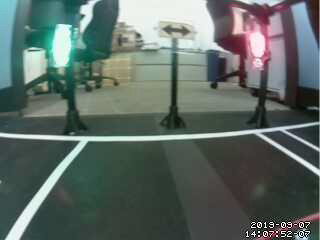Left_Right_sign: (156, 21, 197, 39)
Traffic_light_green: (53, 25, 70, 67)
Traffic_light_red: (250, 32, 264, 66)
